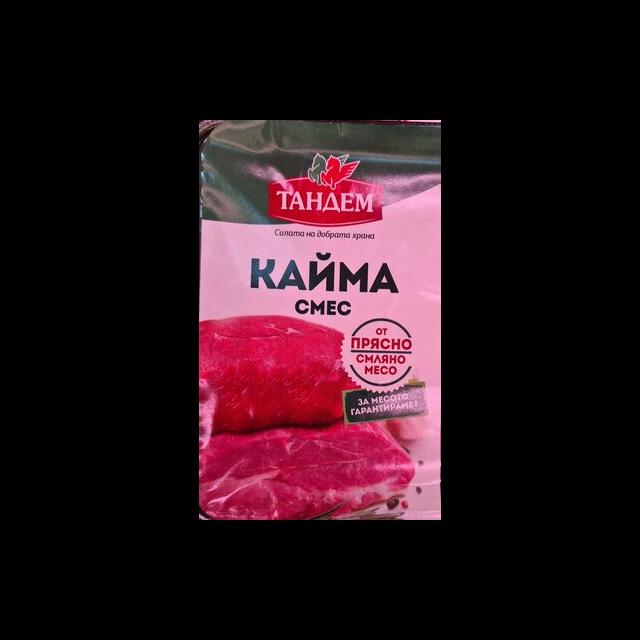beef: (199, 425, 414, 520), (199, 314, 357, 427)
